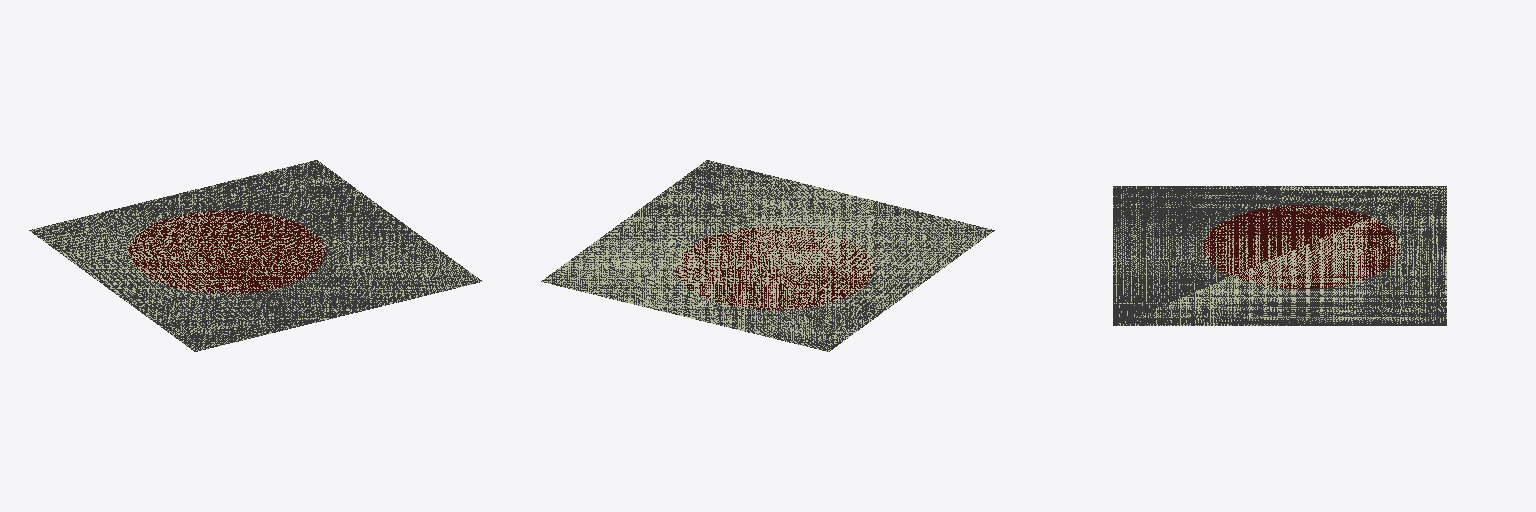
3 renders of one model, left to right at view 1: azimuth 30°, elevation 25°; view 2: azimuth 150°, elevation 25°; view 3: azimuth 270°, elevation 25°, orthographic.
Parts seen in each view (by area): view 1: Cube1; view 2: Cube1; view 3: Cube1.
Part boxes in pixels (bbox=[...]): Cube1: bbox=[29, 160, 482, 351]; Cube1: bbox=[541, 160, 994, 351]; Cube1: bbox=[1113, 186, 1446, 325].
Bounding box in the file's own units: 1 × 0 × 1.
Materials: 2 (1 with a texture image).